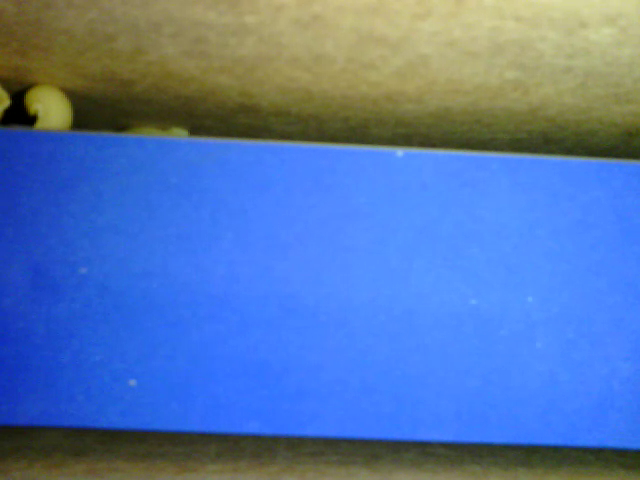shell: (20, 83, 75, 131)
